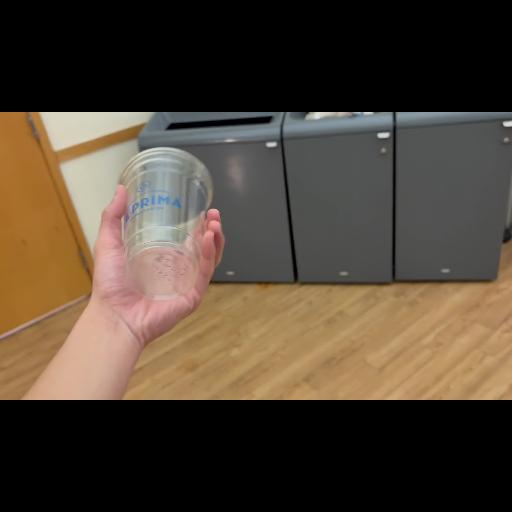lp_plastic_cup: (116, 149, 212, 299)
